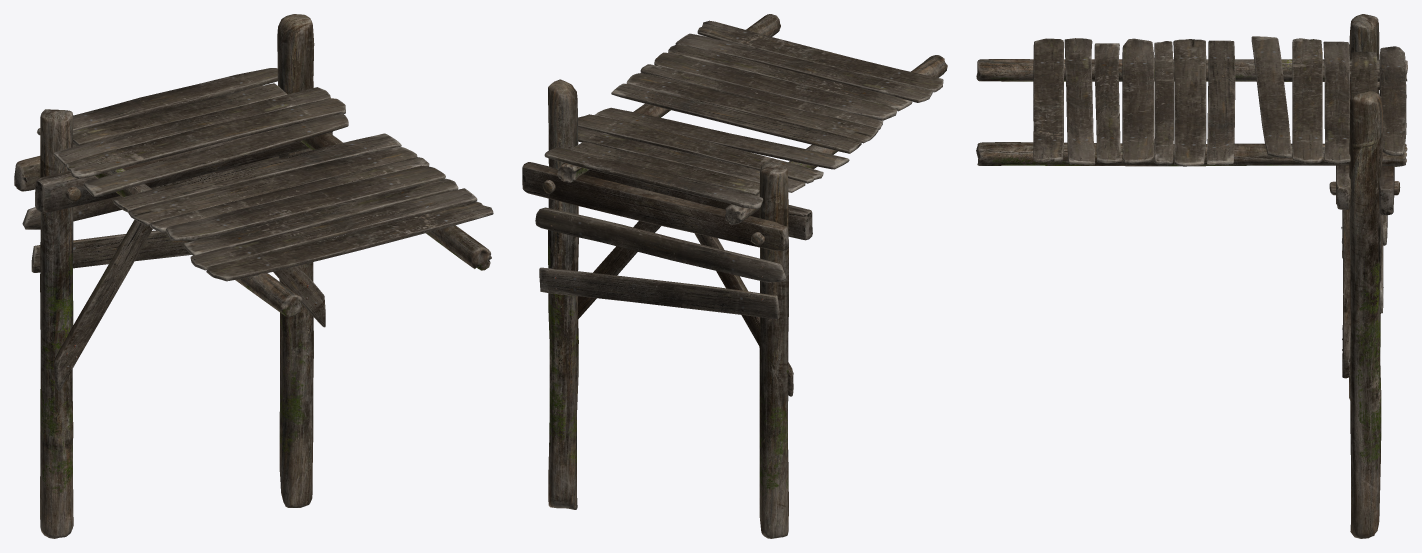
File: modular_wooden_pier_section_03.gltf
The picture shows the model from 3 angles, left to right: view 1: azimuth 30°, elevation 25°; view 2: azimuth 150°, elevation 25°; view 3: azimuth 270°, elevation 25°; orthographic projection. The views are drawn at different scales.
Visible parts, largest first — view 1: modular_wooden_pier_section_03__x; view 2: modular_wooden_pier_section_03__x; view 3: modular_wooden_pier_section_03__x.
Part boxes in pixels (bbox=[...]): modular_wooden_pier_section_03__x: bbox=[14, 14, 493, 538]; modular_wooden_pier_section_03__x: bbox=[522, 14, 947, 538]; modular_wooden_pier_section_03__x: bbox=[976, 14, 1407, 538].
Bounding box in the file's own units: 2.51 × 3.84 × 3.39.
2 materials, 2 textured.
